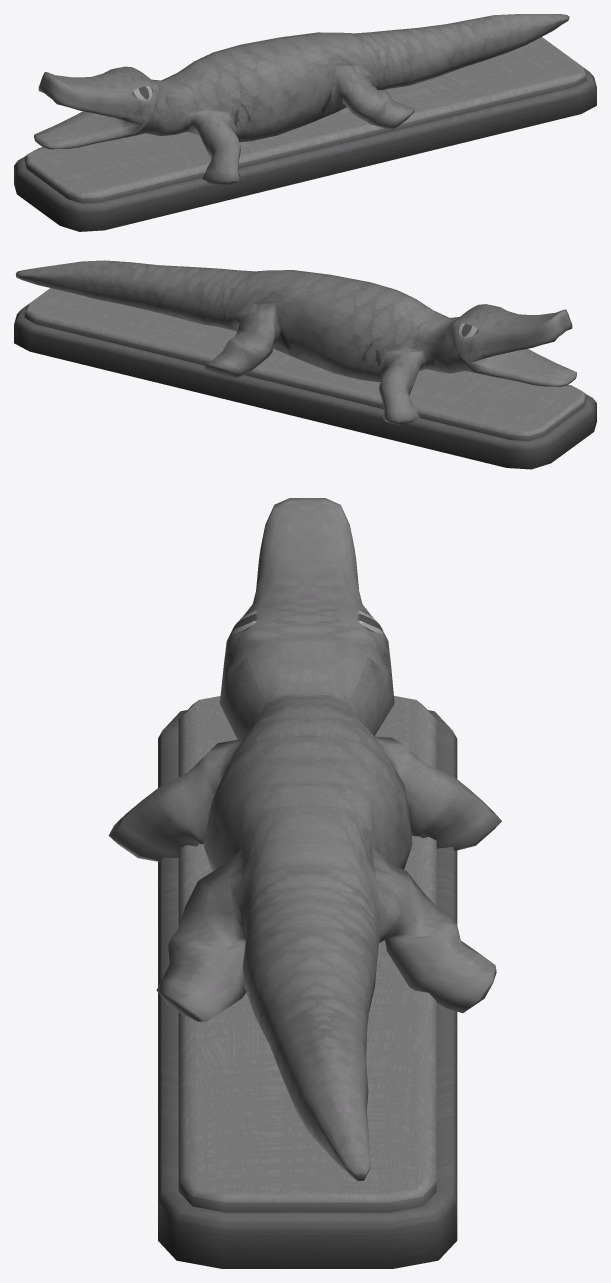
Rendered from CrocoStatueHand.fbx.
3 renders of one model, top to bottom at view 1: azimuth 30°, elevation 25°; view 2: azimuth 150°, elevation 25°; view 3: azimuth 270°, elevation 25°, orthographic. The views are drawn at different scales.
Parts seen in each view (by area): view 1: BunyipStatue (4), BunyipStatue (2); view 2: BunyipStatue (2), BunyipStatue (4); view 3: BunyipStatue (2), BunyipStatue (4).
Boxes of the visible parts, box(x1,y1,x2,y2) form: BunyipStatue (4): box(14, 37, 596, 231); BunyipStatue (2): box(34, 14, 569, 185); BunyipStatue (2): box(15, 260, 576, 424); BunyipStatue (4): box(14, 288, 596, 469); BunyipStatue (2): box(108, 498, 501, 1181); BunyipStatue (4): box(158, 696, 457, 1268).
Bounding box in the file's own units: 2.78 × 0.6411 × 0.8737.
